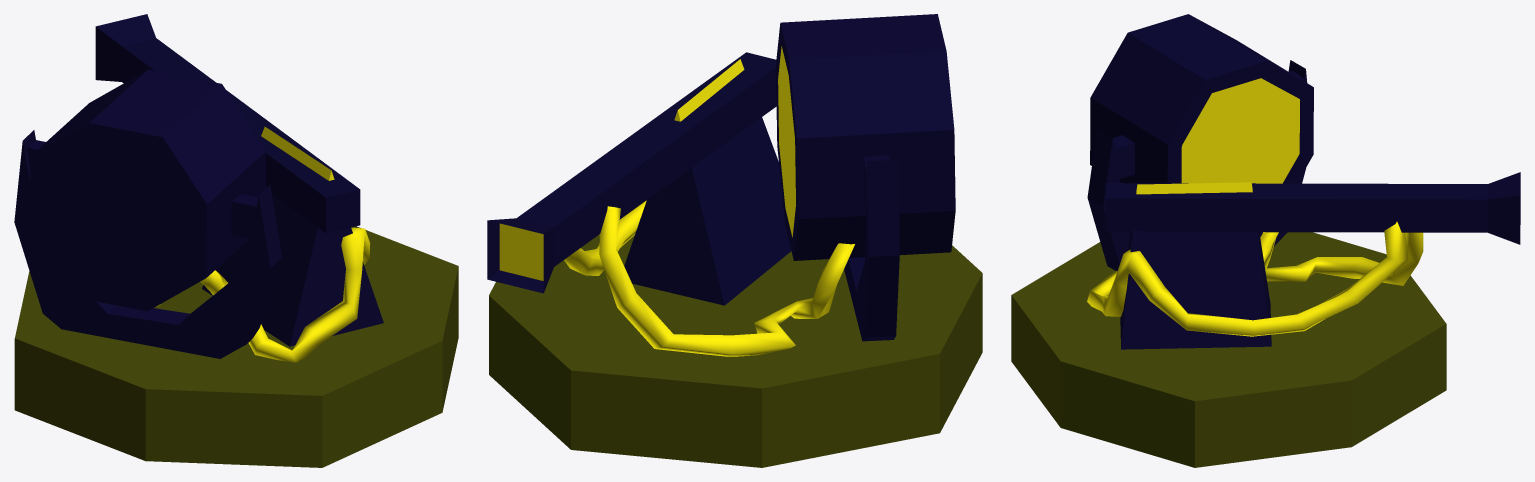
File: flamethrower.fbx
3 renders of one model, left to right at view 1: azimuth 30°, elevation 25°; view 2: azimuth 150°, elevation 25°; view 3: azimuth 270°, elevation 25°, orthographic. The views are drawn at different scales.
Parts seen in each view (by area): view 1: Cube.003, Cube.004, Plane, Cube.005, Cube.006, Cube.008; view 2: Cube.003, Cube.004, Cube.006, Cube.005, Cube.008, Plane; view 3: Cube.003, Cube.004, Cube.005, Cube.006, Cube.008, Plane.
Part boxes in pixels (x1,y1,x2,y2): Cube.003: (14,226,458,467); Cube.004: (27,69,266,311); Plane: (14,130,282,358); Cube.005: (95,14,360,233); Cube.006: (202,126,383,346); Cube.008: (156,227,370,362); Cube.003: (489,234,982,467); Cube.004: (776,14,955,260); Cube.006: (624,59,791,305); Cube.005: (487,52,776,293); Cube.008: (564,200,854,356); Plane: (844,159,899,341); Cube.003: (1011,232,1446,467); Cube.004: (1090,14,1313,183); Cube.005: (1105,172,1520,244); Cube.006: (1120,182,1271,349); Cube.008: (1087,221,1423,336); Plane: (1087,60,1307,270).
Bounding box in the file's own units: 511 × 598 × 370.
